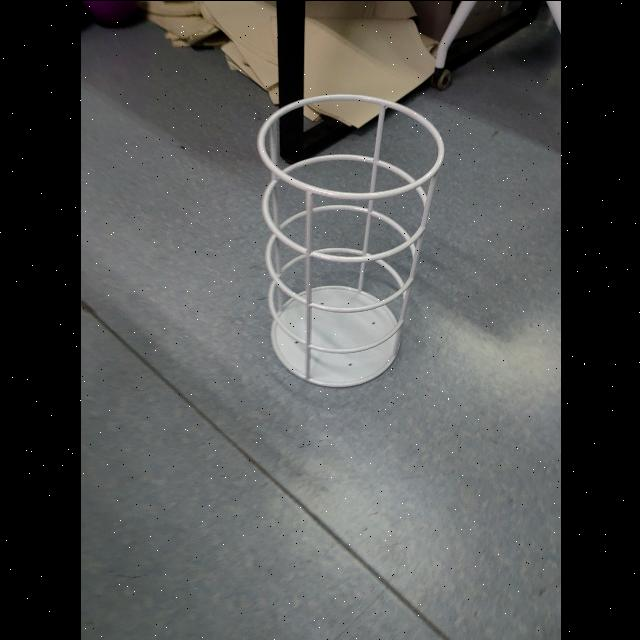S: (248, 89, 448, 389)
